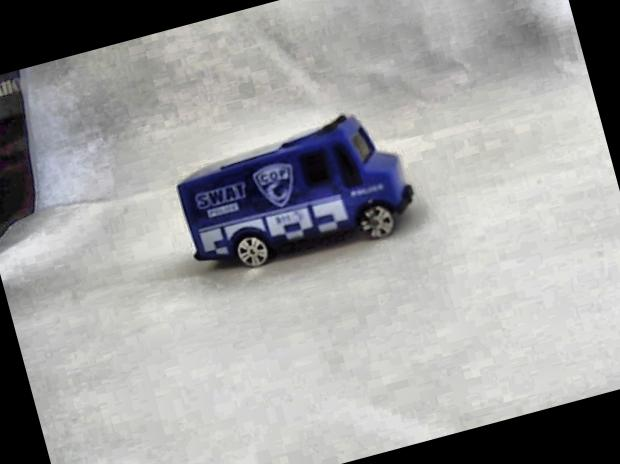police car: (155, 104, 427, 296)
